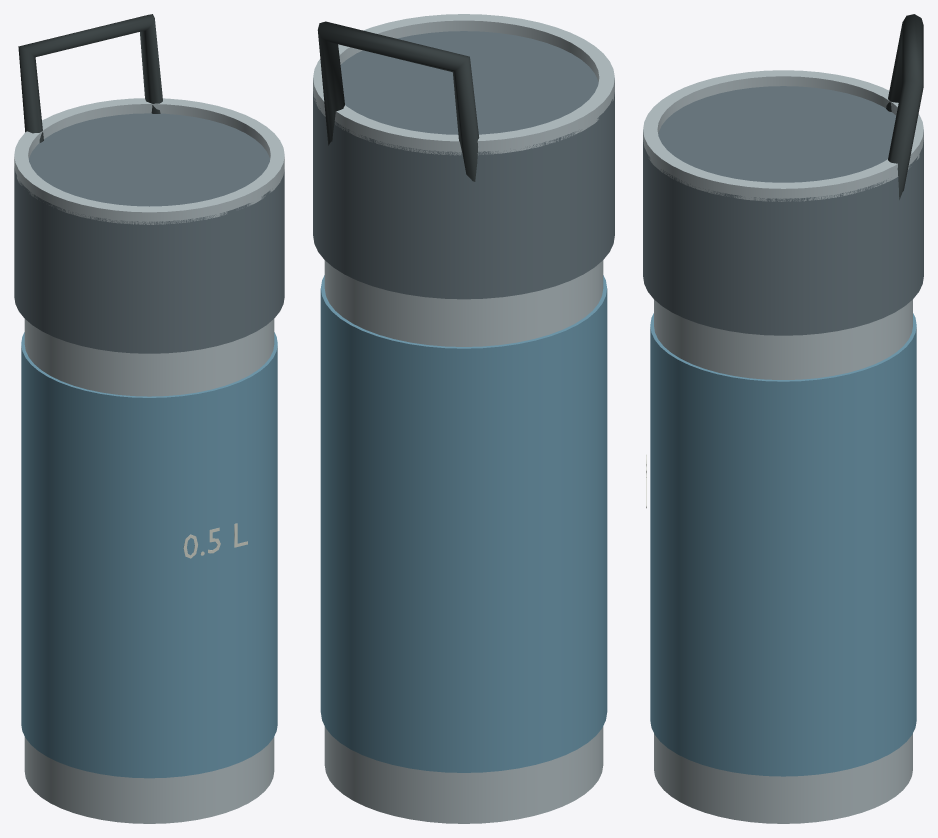
File: loot_thermos.glb
3 renders of one model, left to right at view 1: azimuth 30°, elevation 25°; view 2: azimuth 150°, elevation 25°; view 3: azimuth 270°, elevation 25°, orthographic. The views are drawn at different scales.
Visible parts, largest first — view 1: loot_thermos; view 2: loot_thermos; view 3: loot_thermos.
Boxes of the visible parts, <box> form: loot_thermos: <box>14,14,284,823</box>; loot_thermos: <box>313,14,614,823</box>; loot_thermos: <box>643,14,923,823</box>.
Bounding box in the file's own units: 0.078 × 0.2211 × 0.078.
